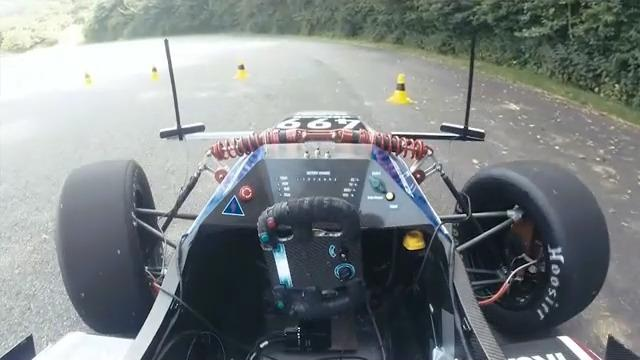yellow_cone: (386, 72, 414, 107), (233, 57, 251, 81), (148, 63, 163, 83)
